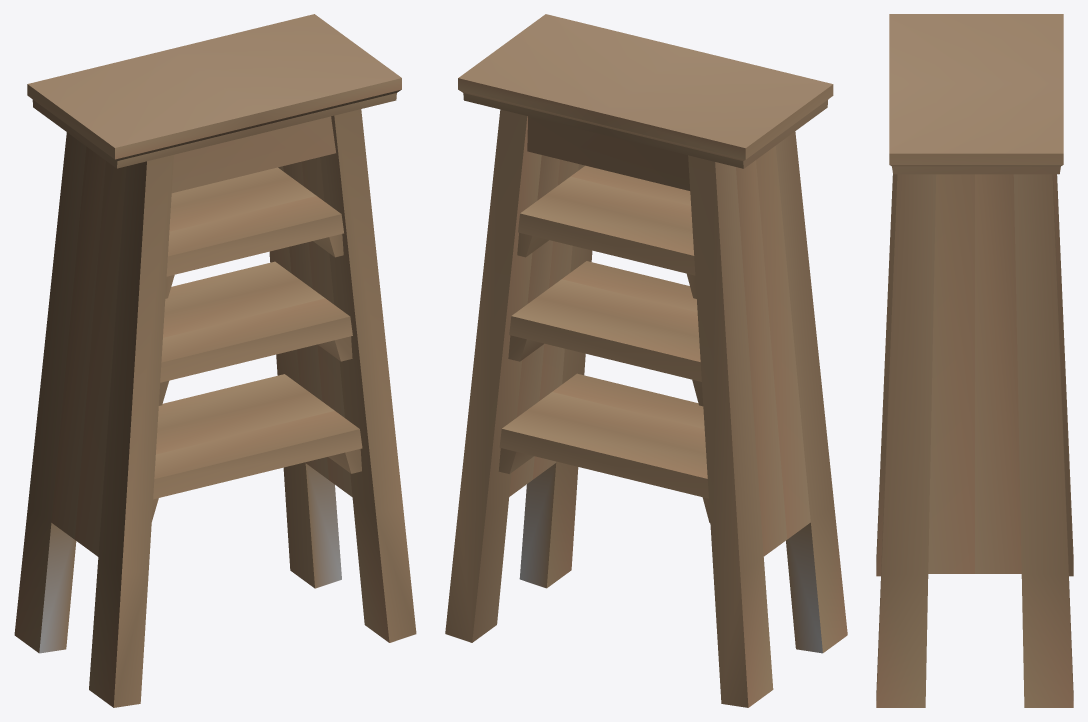
Rendered from Nightstand_Shelf.glb.
3 views of the same model, side by side, from view 1: azimuth 30°, elevation 25°; view 2: azimuth 150°, elevation 25°; view 3: azimuth 270°, elevation 25° (orthographic).
Parts seen in each view (by area): view 1: Nightstand_Shelf; view 2: Nightstand_Shelf; view 3: Nightstand_Shelf.
Part boxes in pixels (x1=…): Nightstand_Shelf: x1=14, y1=14, x2=416, y2=707; Nightstand_Shelf: x1=445, y1=14, x2=847, y2=707; Nightstand_Shelf: x1=876, y1=14, x2=1073, y2=707.
Bounding box in the file's own units: 0.6933 × 1.22 × 0.3935.
